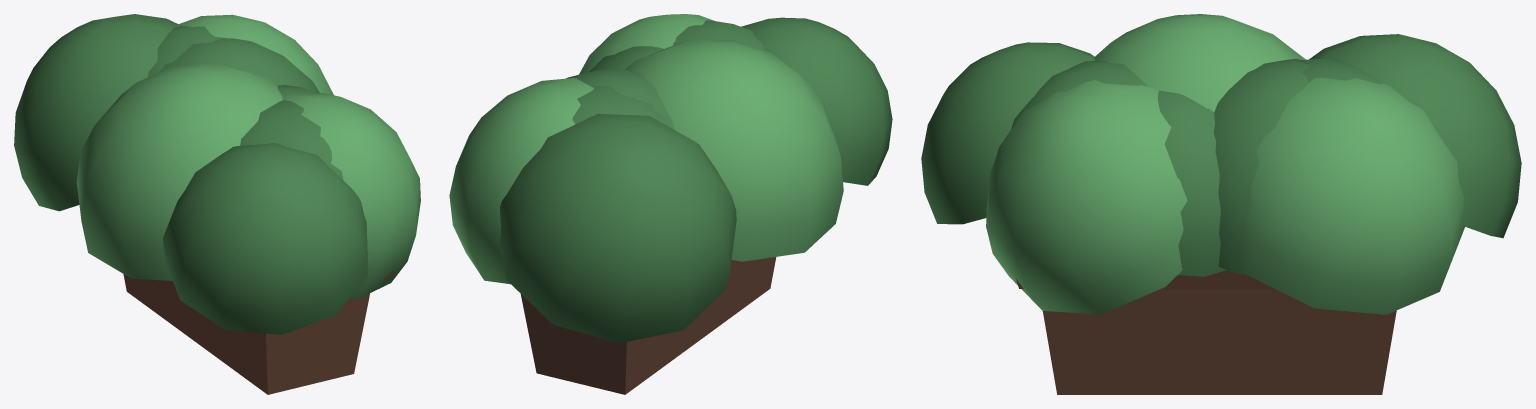
File: flowerpot2.fbx
3 renders of one model, left to right at view 1: azimuth 30°, elevation 25°; view 2: azimuth 150°, elevation 25°; view 3: azimuth 270°, elevation 25°, orthographic. The views are drawn at different scales.
Parts seen in each view (by area): view 1: pSphere11, pSphere8, pSphere10, pSphere14, pCube2, pSphere12, pSphere9, pSphere33, pSphere36; view 2: pSphere10, pSphere8, pSphere9, pSphere11, pCube2, pSphere14, pSphere36, pSphere12, pSphere33, pSphere13; view 3: pSphere9, pSphere14, pCube2, pSphere10, pSphere11, pSphere8, pSphere12, pSphere13, pSphere33, pSphere36.
Part boxes in pixels (left/top/right/bottom): pSphere11: left=163, top=143, right=367, bottom=334; pSphere8: left=76, top=62, right=282, bottom=280; pSphere10: left=14, top=14, right=177, bottom=211; pSphere14: left=282, top=93, right=420, bottom=299; pCube2: left=123, top=270, right=393, bottom=394; pSphere12: left=158, top=38, right=319, bottom=93; pSphere9: left=173, top=14, right=333, bottom=95; pSphere33: left=240, top=100, right=343, bottom=180; pSphere36: left=147, top=26, right=223, bottom=77; pSphere10: left=499, top=113, right=736, bottom=343; pSphere8: left=625, top=39, right=843, bottom=261; pSphere9: left=449, top=78, right=594, bottom=284; pSphere11: left=741, top=17, right=892, bottom=185; pCube2: left=520, top=257, right=776, bottom=394; pSphere14: left=579, top=14, right=714, bottom=74; pSphere36: left=572, top=86, right=670, bottom=127; pSphere12: left=566, top=69, right=674, bottom=129; pSphere33: left=673, top=20, right=764, bottom=50; pSphere13: left=589, top=46, right=663, bottom=72; pSphere9: left=1240, top=77, right=1464, bottom=314; pSphere14: left=986, top=80, right=1187, bottom=314; pCube2: left=1015, top=270, right=1396, bottom=394; pSphere10: left=1309, top=34, right=1521, bottom=238; pSphere11: left=921, top=42, right=1094, bottom=224; pSphere8: left=1094, top=14, right=1305, bottom=112; pSphere12: left=1213, top=59, right=1311, bottom=274; pSphere13: left=1158, top=90, right=1226, bottom=276; pSphere33: left=1011, top=60, right=1148, bottom=128; pSphere36: left=1299, top=58, right=1382, bottom=83.
Size of the model in its own units: 4.05 by 3.69 by 6.32.
